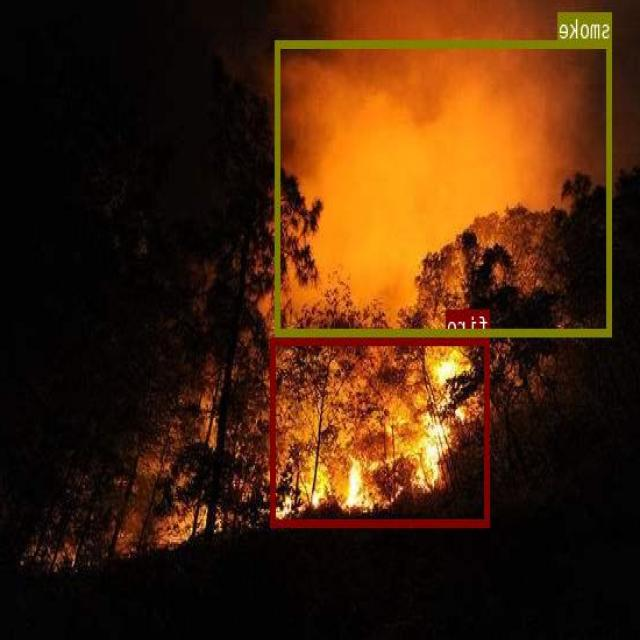fire: (272, 336, 490, 525)
smoke: (276, 40, 612, 335)
